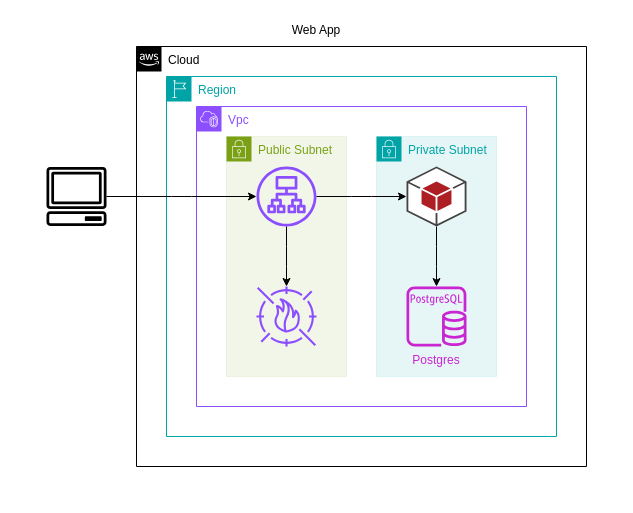
This 633x513 diagram has some shape labels left out. Each missing label, with the centre of its shape:
"Application" goes at (x=436, y=196).
"Client" goes at (x=76, y=196).
"Firewall" goes at (x=286, y=316).
"Load Balancer" goes at (x=286, y=196).
